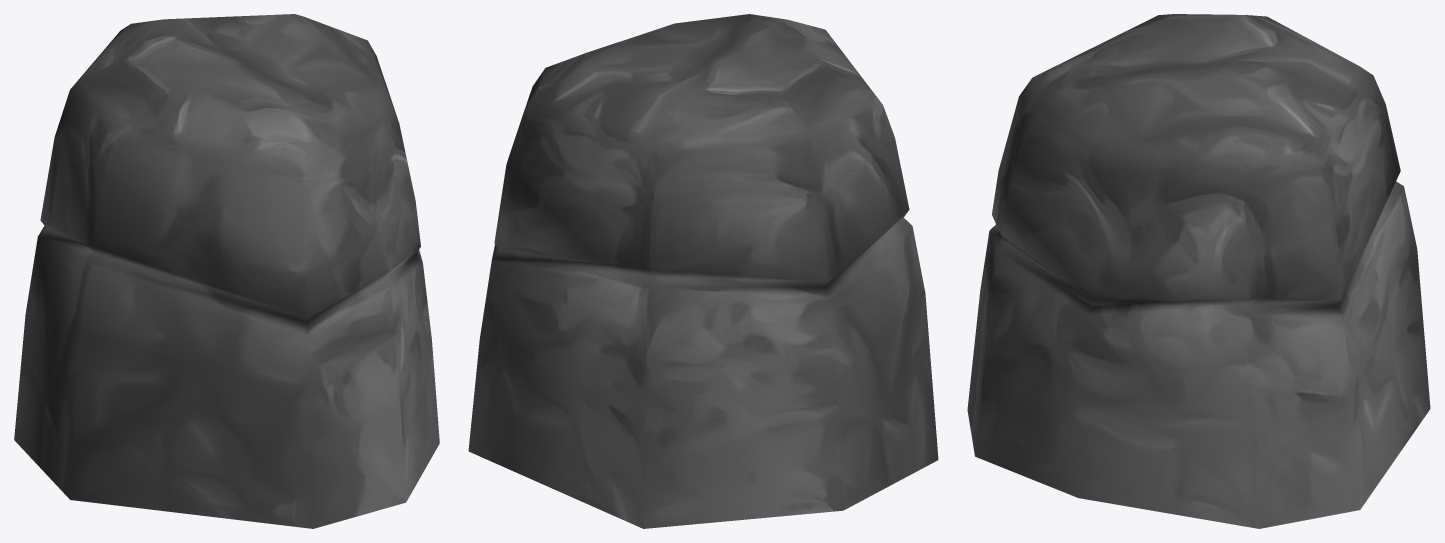
The model's file is roca1.fbx.
3 views of the same model, side by side, from view 1: azimuth 30°, elevation 25°; view 2: azimuth 150°, elevation 25°; view 3: azimuth 270°, elevation 25° (orthographic).
Parts seen in each view (by area): view 1: sm_roca_4; view 2: sm_roca_4; view 3: sm_roca_4.
Part boxes in pixels (x1,y1,x2,y2): sm_roca_4: (14, 14, 439, 528); sm_roca_4: (468, 14, 938, 528); sm_roca_4: (967, 14, 1430, 528).
Bounding box in the file's own units: 621 × 562 × 631.
1 material, 1 textured.
